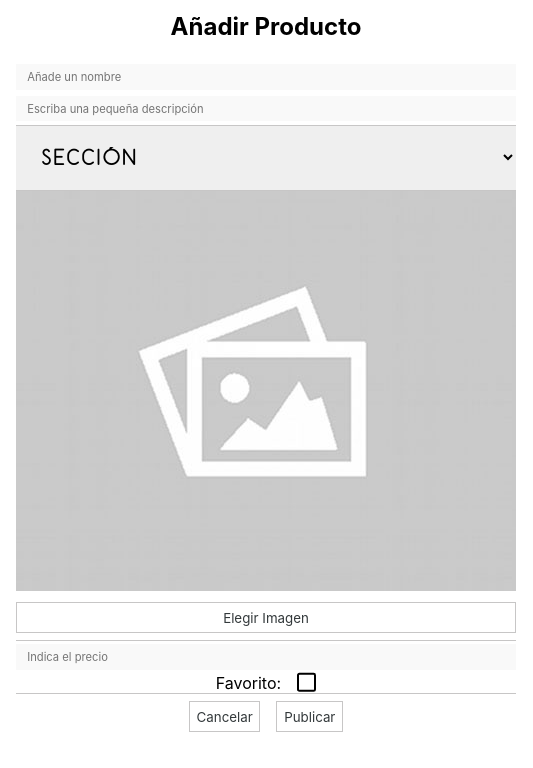
Test: Given the AddProduct Component › when submit button
Click the button "Publicar" at (310, 717), box [276,701,343,732]
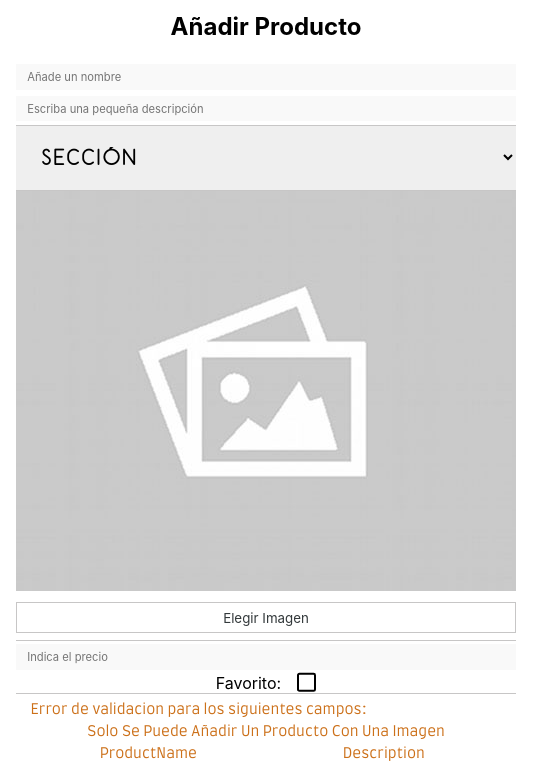
Check: the text "Error de validacion para los siguientes campos:" is shown, box [30,702,367,716]
